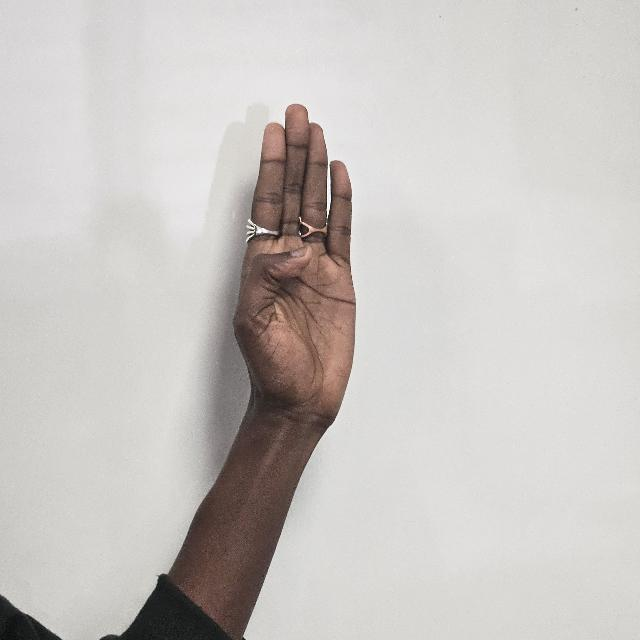Baixo: (236, 106, 356, 450)
